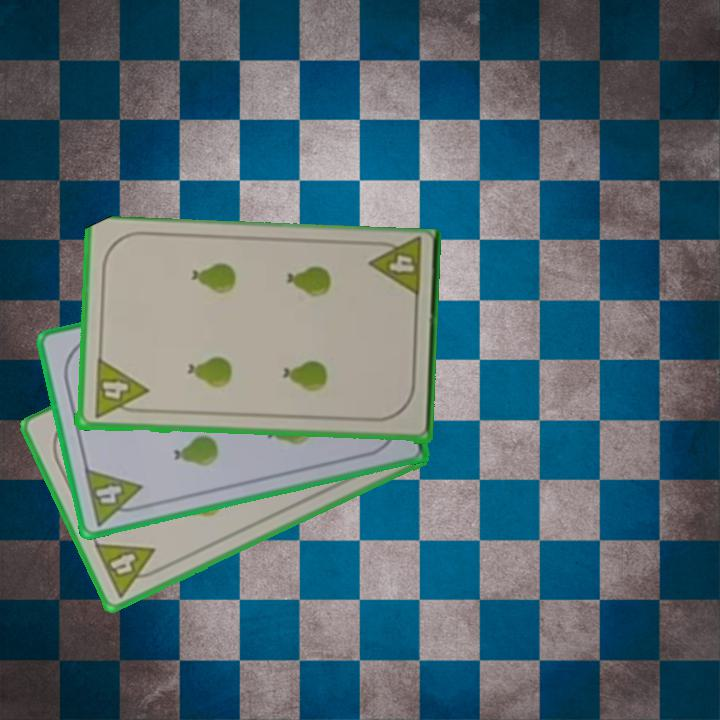4p: (90, 539, 167, 600), (80, 464, 149, 529), (365, 237, 425, 303), (90, 357, 149, 422)
